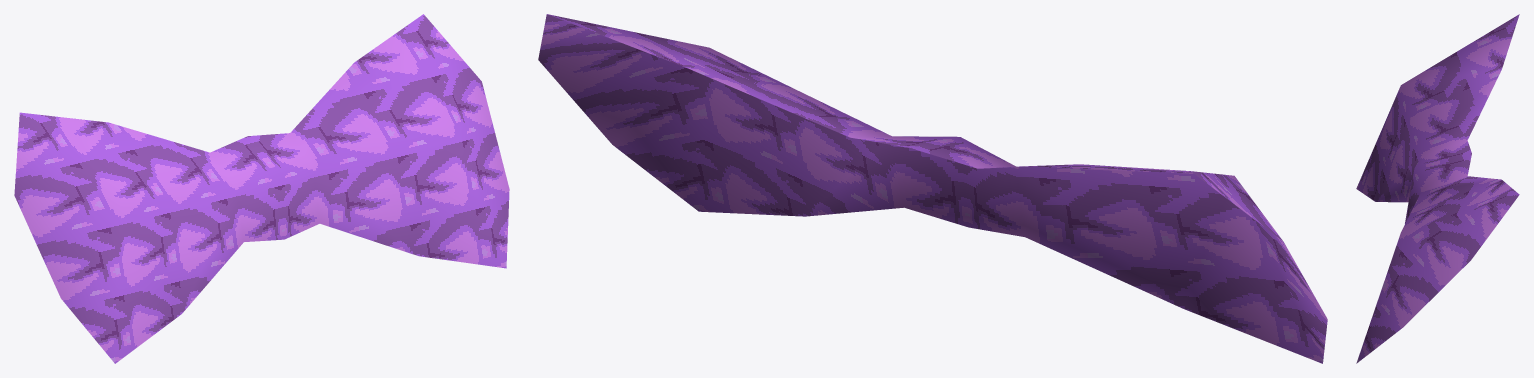
Rendered from code_head92.gltf.
3 renders of one model, left to right at view 1: azimuth 30°, elevation 25°; view 2: azimuth 150°, elevation 25°; view 3: azimuth 270°, elevation 25°, orthographic. The views are drawn at different scales.
Parts seen in each view (by area): view 1: code_head92; view 2: code_head92; view 3: code_head92.
Boxes of the visible parts, left/top/right/bottom form: code_head92: left=14, top=14, right=509, bottom=363; code_head92: left=538, top=14, right=1327, bottom=363; code_head92: left=1356, top=14, right=1519, bottom=363.
Size of the model in its own units: 0.7495 by 0.2876 by 0.2476.
Materials: 1 (1 with a texture image).
